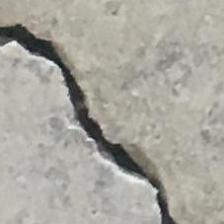Crack: (0, 9, 205, 222)
